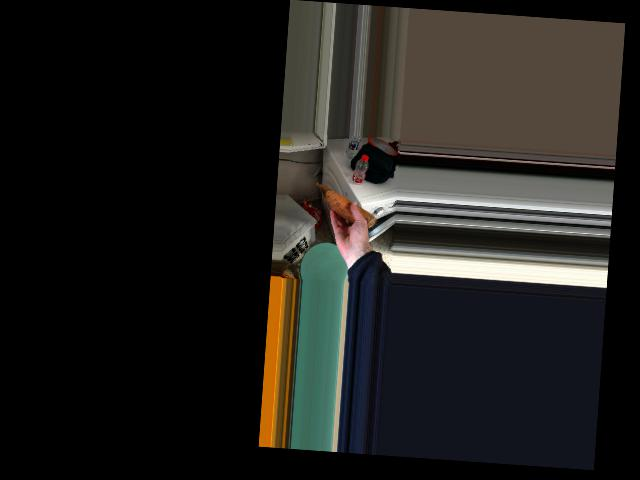sweet_potato: (328, 188, 364, 223)
